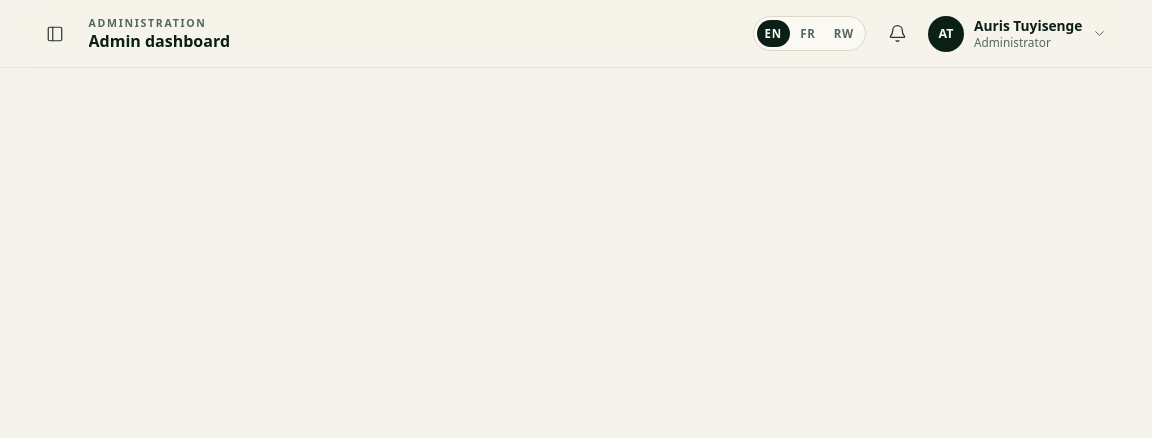
it: TopBar › shows the account menu with profile and sign out
Click the button "AT Auris Tuyisenge Administrator". click: (1021, 34)
box: [924,12,1117,56]
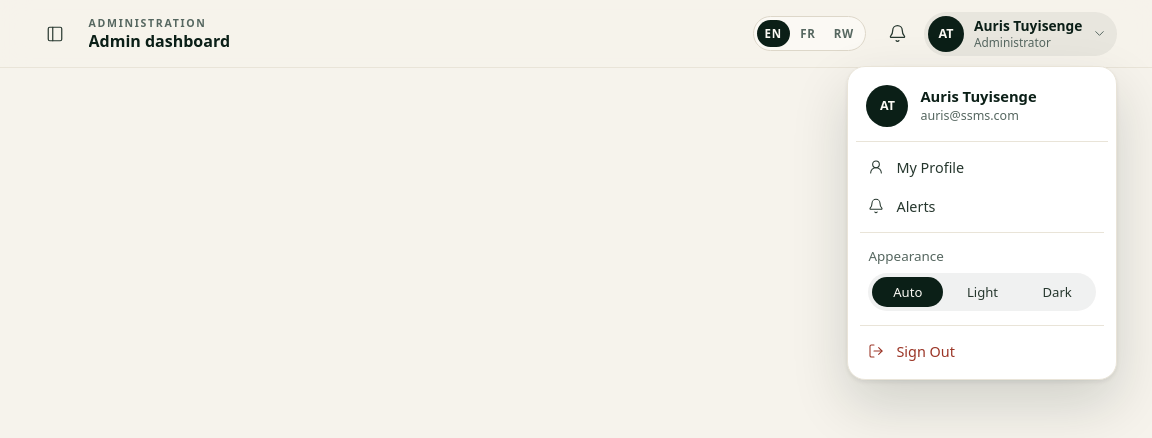
Result: the menu item "Sign Out" is shown at [856,332,1108,370]
